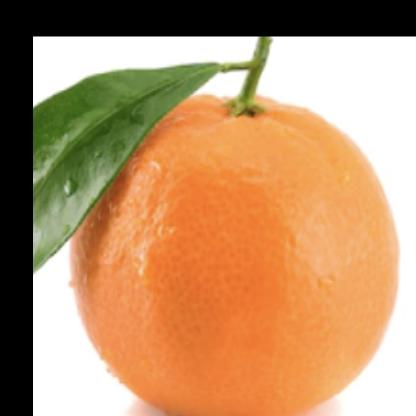fresh: (67, 55, 399, 416)
